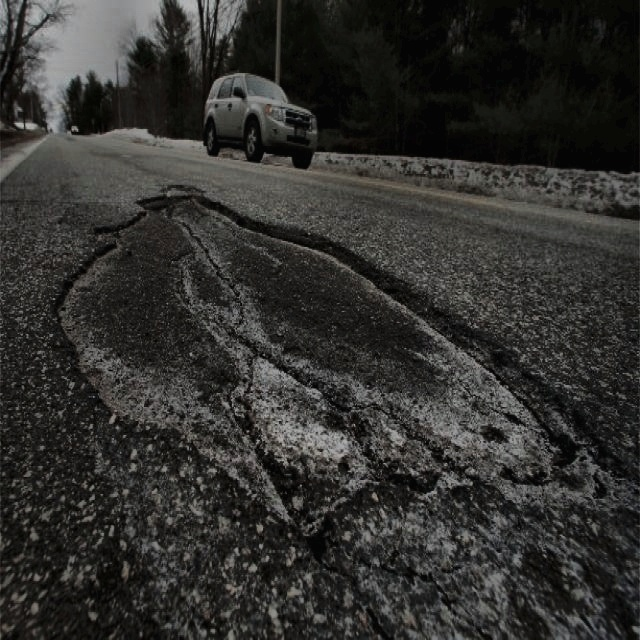Pothole: (50, 173, 583, 538)
